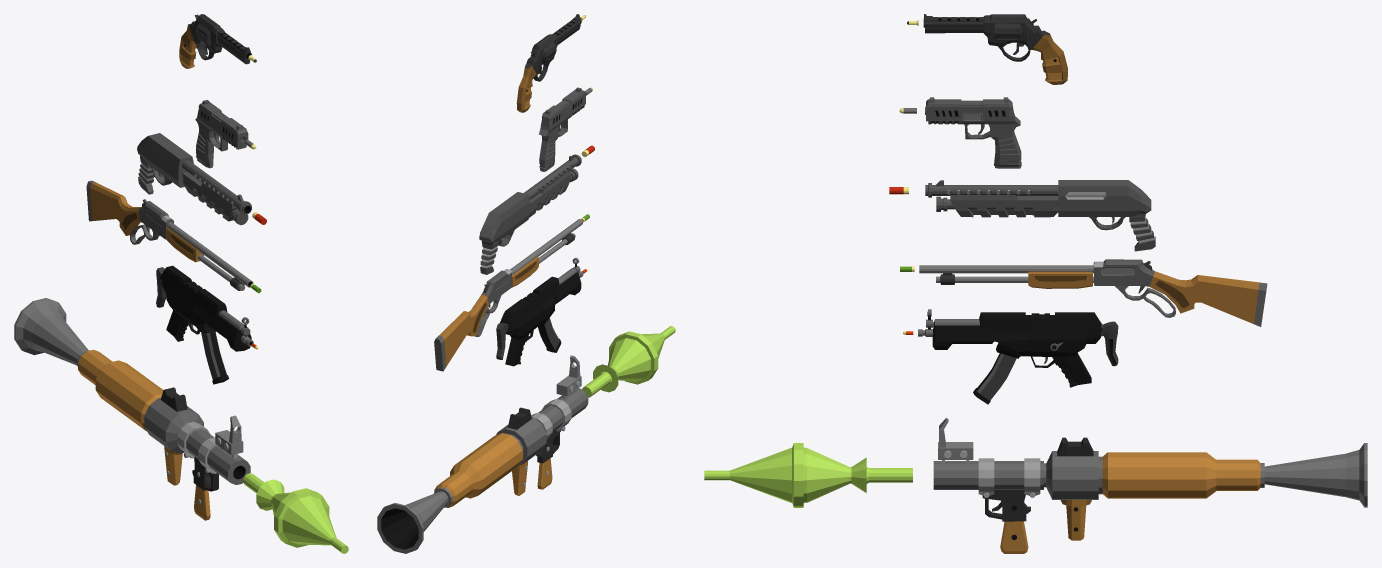
Rendered from lp_mini_pack_modern_weaponswith_bullets_part_1.glb.
The picture shows the model from 3 angles, left to right: view 1: azimuth 30°, elevation 25°; view 2: azimuth 150°, elevation 25°; view 3: azimuth 270°, elevation 25°; orthographic projection. The views are drawn at different scales.
Parts seen in each view (by area): view 1: Gun.005, Gun.001, Gun.002, Gun.003, Gun.005.Bullet, Gun.004, Gun.006; view 2: Gun.005, Gun.001, Gun.002, Gun.003, Gun.005.Bullet, Gun.006, Gun.004; view 3: Gun.005, Gun.002, Gun.001, Gun.003, Gun.005.Bullet, Gun.006, Gun.004.
Boxes of the visible parts, box(x1,y1,x2,y2) form: Gun.005: box(14, 298, 250, 520); Gun.001: box(156, 265, 253, 384); Gun.002: box(86, 180, 253, 290); Gun.003: box(137, 133, 251, 225); Gun.005.Bullet: box(243, 473, 348, 553); Gun.004: box(195, 100, 248, 168); Gun.006: box(179, 14, 251, 68); Gun.005: box(377, 355, 588, 553); Gun.001: box(496, 258, 583, 366); Gun.002: box(434, 219, 582, 371); Gun.003: box(479, 154, 581, 274); Gun.005.Bullet: box(582, 326, 675, 397); Gun.006: box(516, 14, 581, 112); Gun.004: box(538, 87, 585, 171); Gun.005: box(933, 418, 1367, 553); Gun.002: box(919, 259, 1267, 326); Gun.001: box(918, 309, 1118, 404); Gun.003: box(925, 180, 1155, 251); Gun.005.Bullet: box(704, 443, 912, 507); Gun.006: box(923, 14, 1067, 84); Gun.004: box(925, 97, 1021, 168).
Size of the model in its own units: 1.08 by 10.16 by 11.3.
Materials: 1 (1 with a texture image).
